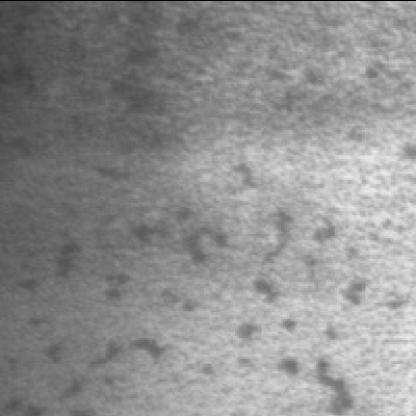pitted_surface: (46, 34, 412, 310), (29, 248, 405, 416)
